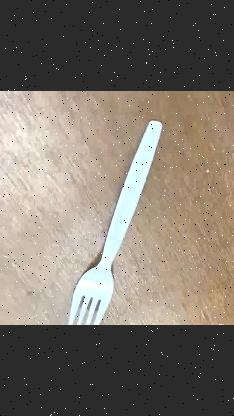Others: (66, 119, 162, 324)
